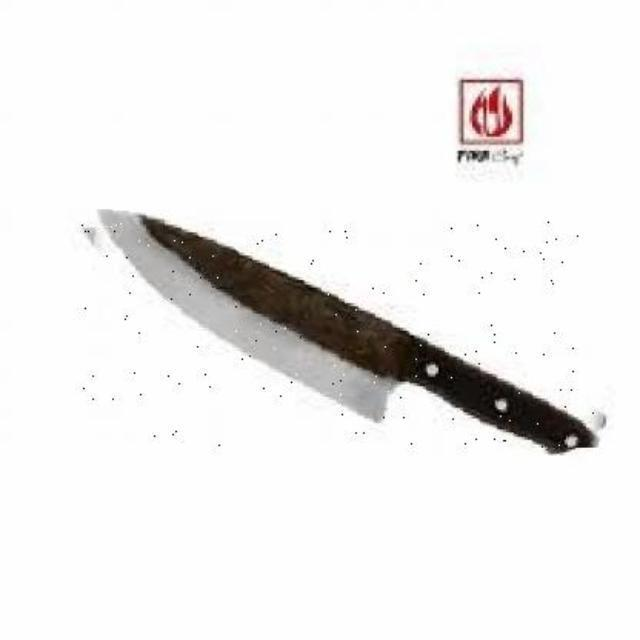Knife: (82, 220, 606, 448)
